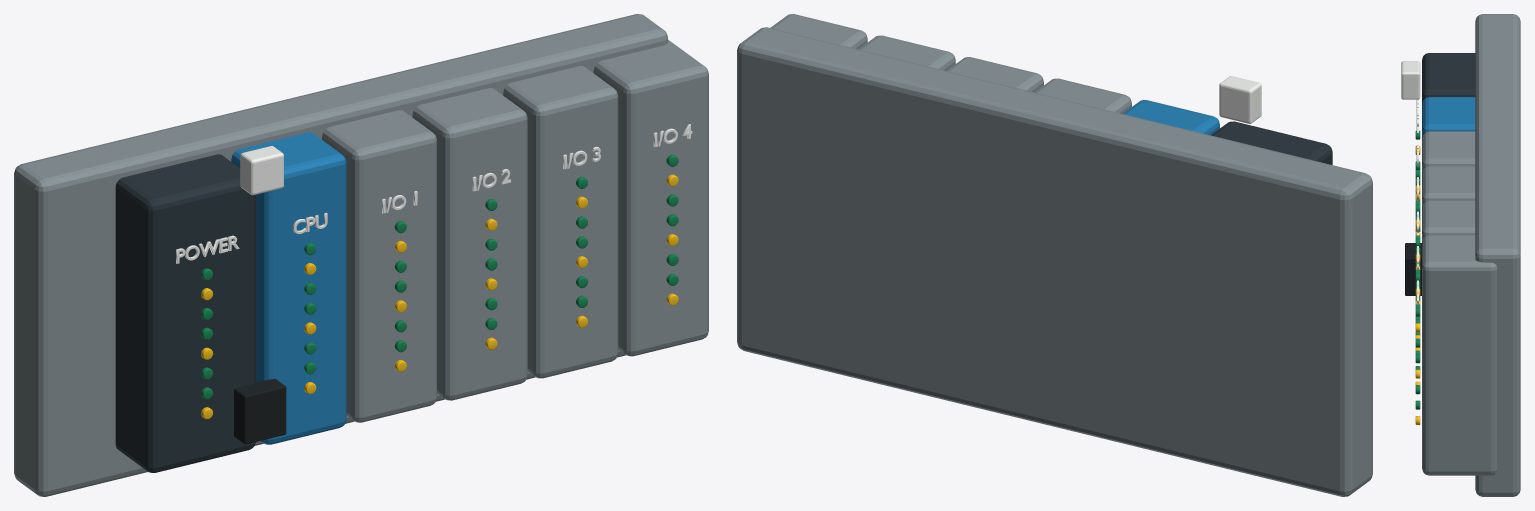
The model's file is plc_rack.glb.
3 renders of one model, left to right at view 1: azimuth 30°, elevation 25°; view 2: azimuth 150°, elevation 25°; view 3: azimuth 270°, elevation 25°, orthographic. The views are drawn at different scales.
Parts seen in each view (by area): view 1: BACKPLANE, MODULE_0, MODULE_4, MODULE_5, MODULE_2, MODULE_3, MODULE_1, ETHERNET_PORT, KEY_SWITCH; view 2: BACKPLANE, MODULE_0, KEY_SWITCH, MODULE_4, MODULE_2, MODULE_5, MODULE_3, MODULE_1; view 3: MODULE_5, BACKPLANE, MODULE_0, MODULE_4, MODULE_2, MODULE_1, MODULE_3, KEY_SWITCH, ETHERNET_PORT.
Part boxes in pixels (box(x1,y1,x2,y2)): BACKPLANE: box(14, 14, 667, 496); MODULE_0: box(115, 154, 255, 472); MODULE_4: box(503, 66, 618, 378); MODULE_5: box(593, 39, 708, 356); MODULE_2: box(322, 110, 436, 422); MODULE_3: box(412, 88, 527, 400); MODULE_1: box(231, 132, 346, 444); ETHERNET_PORT: box(234, 378, 286, 444); KEY_SWITCH: box(240, 146, 283, 195); BACKPLANE: box(737, 27, 1372, 496); MODULE_0: box(1211, 121, 1332, 164); KEY_SWITCH: box(1219, 76, 1261, 123); MODULE_4: box(858, 35, 955, 70); MODULE_2: box(1034, 78, 1131, 113); MODULE_5: box(770, 14, 867, 49); MODULE_3: box(946, 57, 1043, 92); MODULE_1: box(1123, 100, 1219, 135); MODULE_5: box(1422, 235, 1497, 475); BACKPLANE: box(1475, 14, 1520, 496); MODULE_0: box(1422, 53, 1475, 103); MODULE_4: box(1422, 200, 1475, 241); MODULE_2: box(1422, 131, 1475, 172); MODULE_1: box(1422, 97, 1475, 137); MODULE_3: box(1422, 166, 1475, 206); KEY_SWITCH: box(1401, 61, 1420, 99); ETHERNET_PORT: box(1405, 243, 1421, 295).
Bounding box in the file's own units: 1.52 × 0.76 × 0.315.
